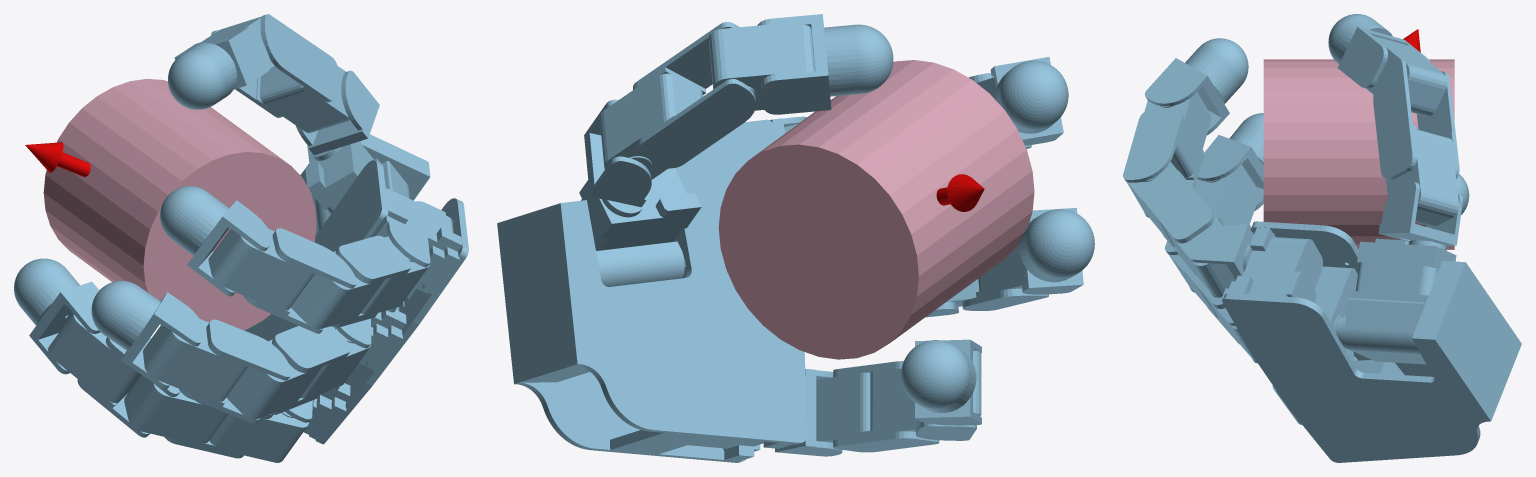
3 renders of one model, left to right at view 1: azimuth 30°, elevation 25°; view 2: azimuth 150°, elevation 25°; view 3: azimuth 270°, elevation 25°, orthographic. The views are drawn at different scales.
Parts seen in each view (by area): view 1: world, cylinder_medium.stl; view 2: world, cylinder_medium.stl; view 3: world, cylinder_medium.stl.
Boxes of the visible parts, <box> form: world: <box>14,14,468,462</box>; cylinder_medium.stl: <box>43,78,316,330</box>; world: <box>497,14,1094,462</box>; cylinder_medium.stl: <box>718,60,1034,359</box>; world: <box>1123,14,1521,462</box>; cylinder_medium.stl: <box>1263,59,1454,249</box>.
Size of the model in its own units: 0.1955 by 0.1837 by 0.1671.
